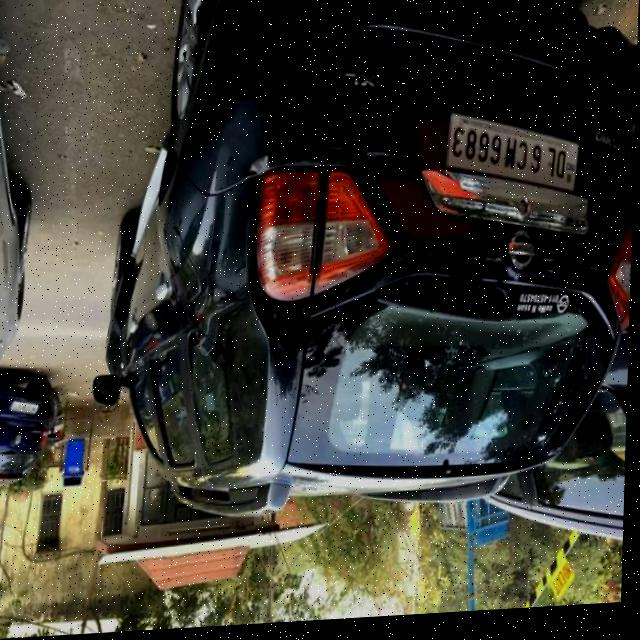plate: (446, 112, 584, 208), (10, 401, 43, 418)
